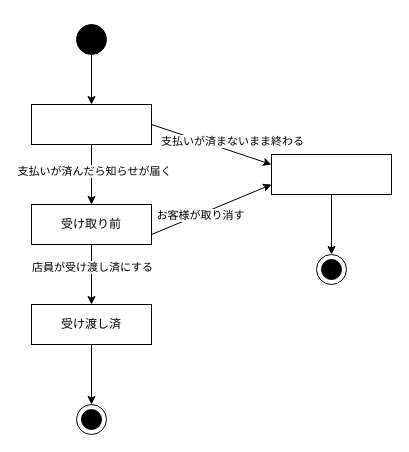
The diagram is 409 pixels wide and 452 high, and some of its shapes have lost their labels. The shapes that lost their labels are listed below. From the top down, each one's centre as x and y in pixels, then its label:
At (91,124): "支払い待ち".
At (331,174): "取り消し済".
